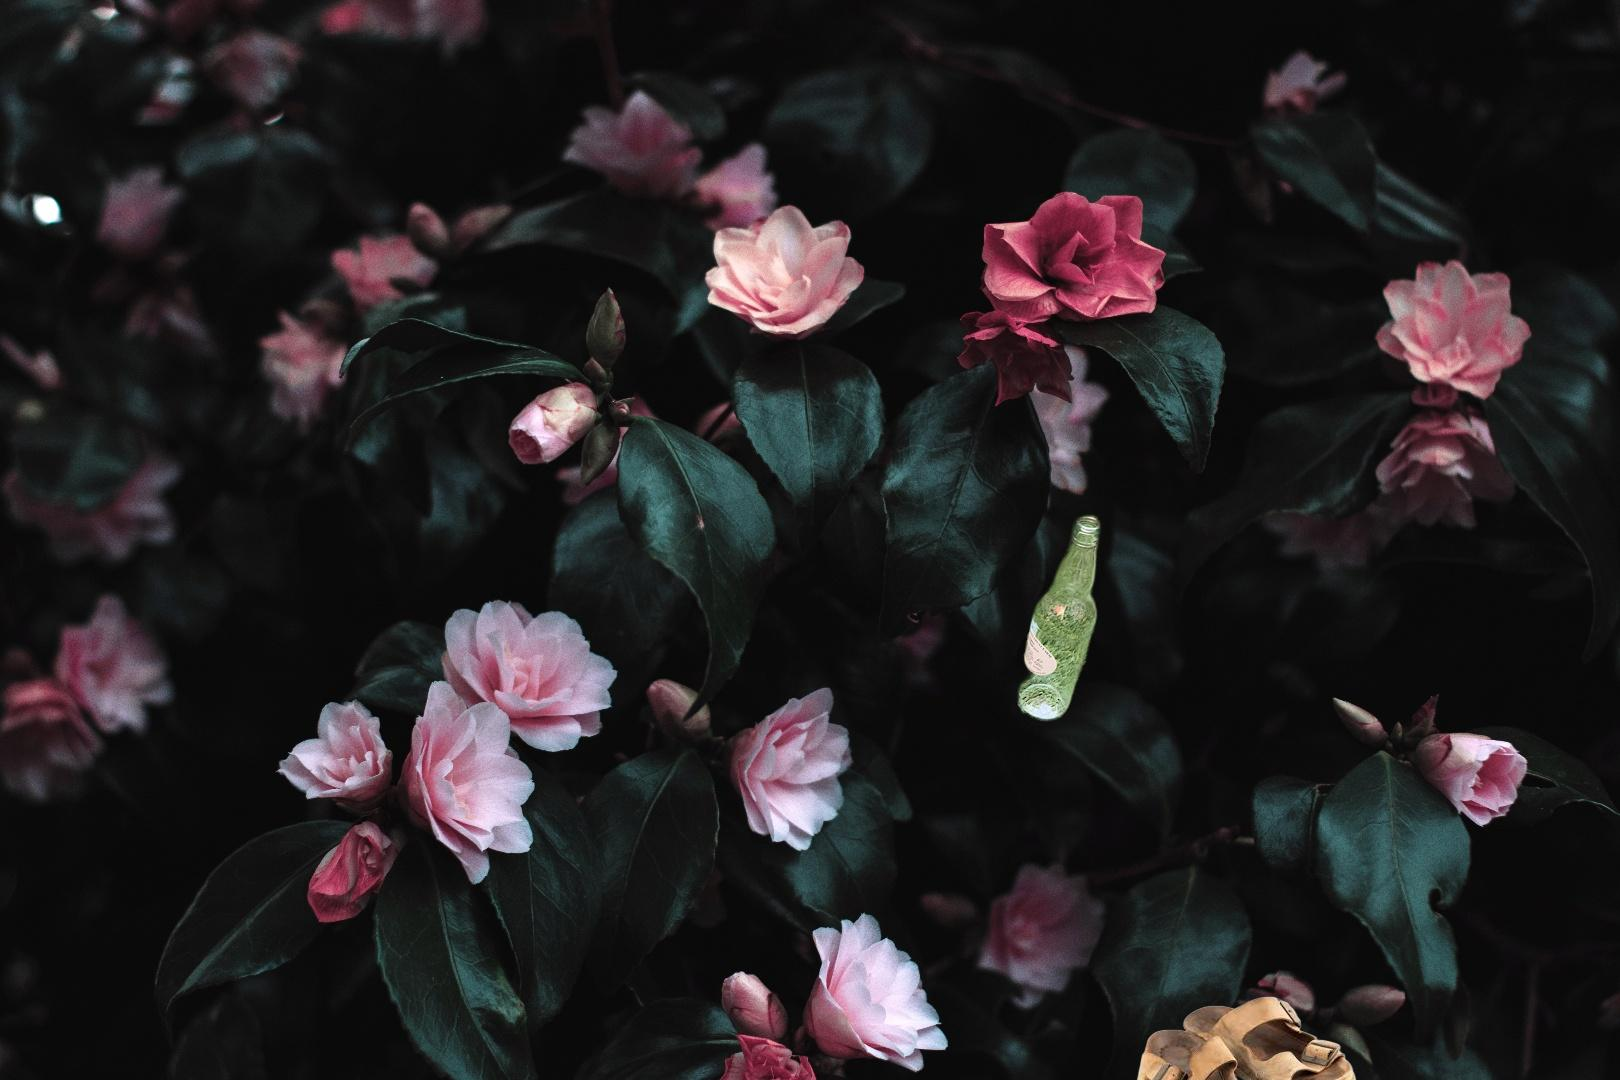glass: (730, 491, 1107, 1031)
shoes: (1098, 994, 1373, 1080)
